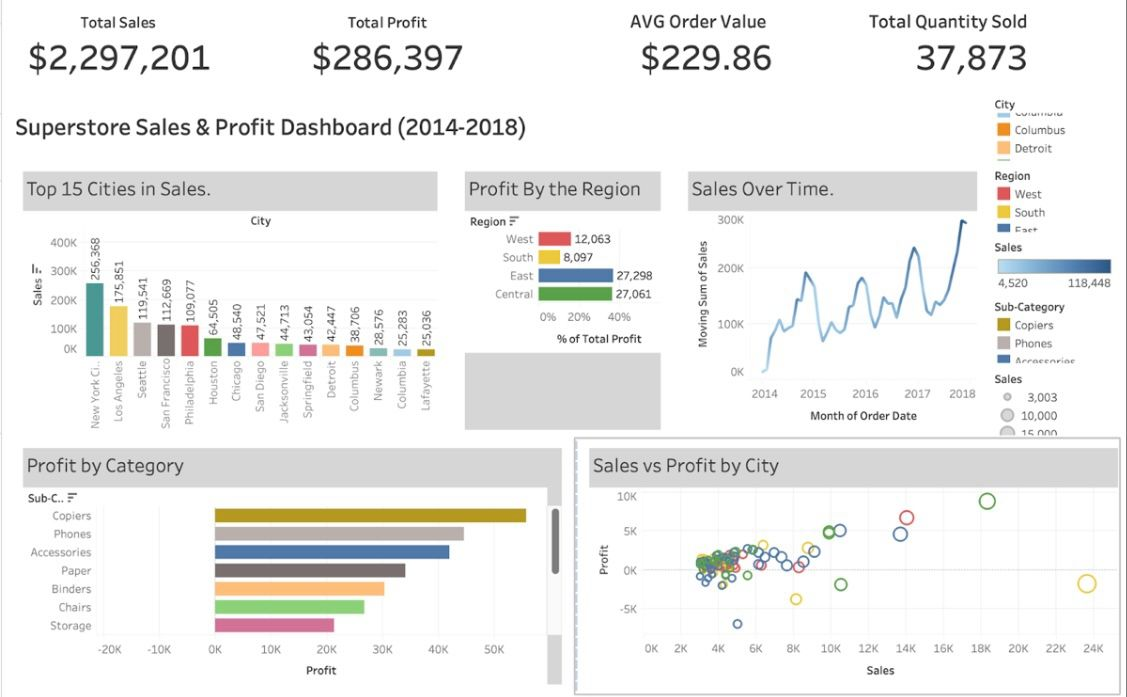

This screenshot's page, from the dashboard's own definition file:
{"tool":"tableau","page":{"name":"SuperSaleDashboard","canvas":[1000,1000],"units":"permille","ordinal":0},"visuals":[{"type":"worksheet","title":"Total Sales","mark":"Automatic","box":[6.5,12.4,257.9,124.2]},{"type":"worksheet","title":"Total Profit","mark":"Automatic","box":[264.4,12.4,257.9,124.2]},{"type":"worksheet","title":"AVG Order Value ","mark":"Automatic","box":[522.4,12.4,227,124.2]},{"type":"worksheet","title":"Total Quantity Sold ","mark":"Automatic","box":[749.4,12.4,244.1,124.2]},{"type":"title","box":[6.5,136.7,873.1,98.5]},{"type":"legend","title":"City Sales","param":"[federated.0kca7xl1958uqd10gwv9k00zrazw].[none:City:nk]","box":[879.6,136.7,113.9,98.1]},{"type":"legend","title":"PBR","param":"[federated.0kca7xl1958uqd10gwv9k00zrazw].[none:Region:nk]","box":[879.6,234.8,113.9,98.1]},{"type":"worksheet","title":"City Sales","mark":"Automatic","rows":["Sales"],"cols":["City"],"box":[6.5,235.1,393,392.2]},{"type":"worksheet","title":"PBR","mark":"Automatic","rows":["Region"],"cols":["Profit"],"box":[399.5,235.1,198.5,392.2]},{"type":"worksheet","title":"SOT","mark":"Automatic","rows":["Sales"],"cols":["Order Date"],"box":[598.1,235.1,281.5,392.2]},{"type":"legend","title":"SOT","param":"[federated.0kca7xl1958uqd10gwv9k00zrazw].[sum:Sales:qk]","box":[879.6,332.9,113.9,98.1]},{"type":"legend","title":"PBC","param":"[federated.0kca7xl1958uqd10gwv9k00zrazw].[none:Sub-Category:nk]","box":[879.6,431,113.9,98.1]},{"type":"legend","title":"SvPbC","param":"[federated.0kca7xl1958uqd10gwv9k00zrazw].[sum:Sales:qk]","box":[879.6,529.2,113.9,98.2]},{"type":"worksheet","title":"PBC","mark":"Automatic","rows":["Sub-Category"],"cols":["Profit"],"box":[6.5,627.3,503.7,360.2]},{"type":"worksheet","title":"SvPbC","mark":"Automatic","rows":["Profit"],"cols":["Sales"],"box":[510.2,627.3,483.3,360.2]}]}

Visuals, with their boxes on the dashboard's canvas, which has no fixed pixel size, in thousandths of its width and height (x1, y1, x2, y2). These are canvas units, not pixel positions in the 1127x697 screenshot, which may show the page scaled, cropped or inside an application window:
"Total Sales" worksheet: <region>6, 12, 264, 137</region>
"Total Profit" worksheet: <region>264, 12, 522, 137</region>
"AVG Order Value " worksheet: <region>522, 12, 749, 137</region>
"Total Quantity Sold " worksheet: <region>749, 12, 994, 137</region>
title: <region>6, 137, 880, 235</region>
"City Sales" legend: <region>880, 137, 994, 235</region>
"PBR" legend: <region>880, 235, 994, 333</region>
"City Sales" worksheet: <region>6, 235, 400, 627</region>
"PBR" worksheet: <region>400, 235, 598, 627</region>
"SOT" worksheet: <region>598, 235, 880, 627</region>
"SOT" legend: <region>880, 333, 994, 431</region>
"PBC" legend: <region>880, 431, 994, 529</region>
"SvPbC" legend: <region>880, 529, 994, 627</region>
"PBC" worksheet: <region>6, 627, 510, 988</region>
"SvPbC" worksheet: <region>510, 627, 994, 988</region>
